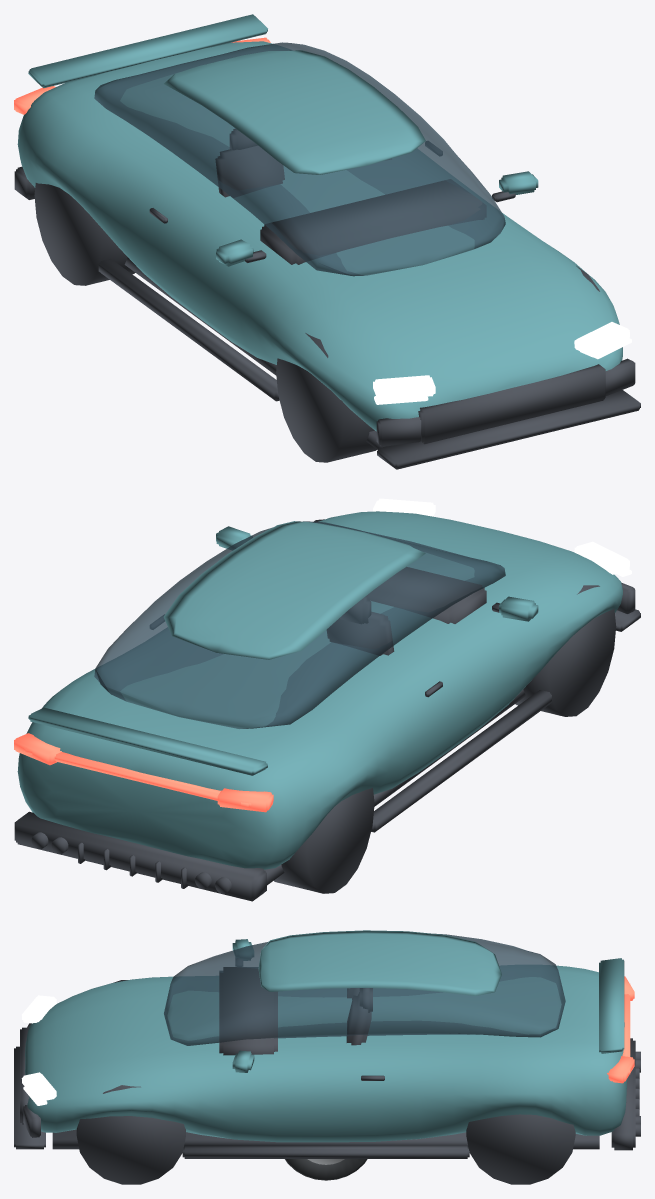
File: hero-gt.glb
3 views of the same model, one above another, from view 1: azimuth 30°, elevation 25°; view 2: azimuth 150°, elevation 25°; view 3: azimuth 270°, elevation 25° (orthographic). The views are drawn at different scales.
Visible parts, largest first — view 1: paint, trim, glass, head; view 2: paint, trim, glass, rear, head; view 3: paint, trim, glass, head, wheel_l, rear.
Part boxes in pixels (<box>): paint: <box>17,14,622,431</box>; trim: <box>14,129,640,469</box>; glass: <box>94,42,505,276</box>; head: <box>373,322,631,404</box>; paint: <box>17,511,622,869</box>; trim: <box>14,519,640,901</box>; glass: <box>94,521,505,728</box>; rear: <box>14,733,273,812</box>; head: <box>373,498,631,576</box>; paint: <box>25,930,627,1142</box>; trim: <box>14,958,640,1184</box>; glass: <box>164,933,565,1045</box>; head: <box>21,995,56,1105</box>; wheel_l: <box>285,1159,367,1180</box>; rear: <box>607,976,634,1083</box>.
Size of the model in its own units: 2.21 by 1.81 by 4.7.
